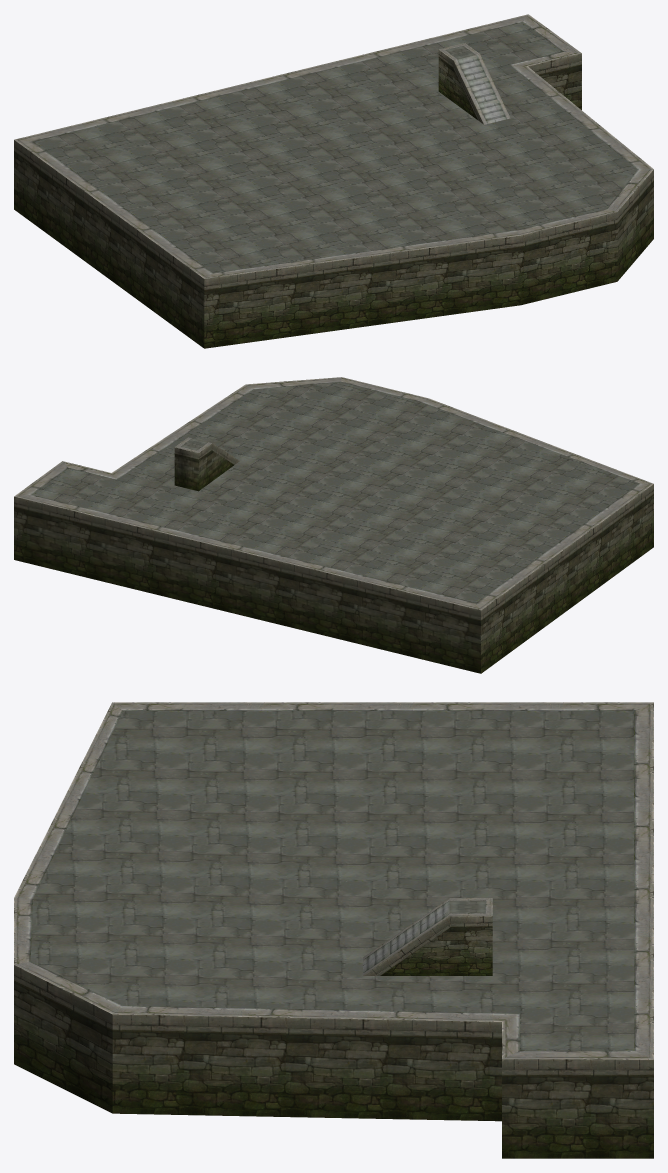
The model's file is environment_building_pingtai_004_b.FBX.
3 views of the same model, one above another, from view 1: azimuth 30°, elevation 25°; view 2: azimuth 150°, elevation 25°; view 3: azimuth 270°, elevation 25° (orthographic). The views are drawn at different scales.
Parts seen in each view (by area): view 1: environment_building_pingtai_004_b3, environment_building_pingtai_004_b1, environment_building_pingtai_004_b2, environment_building_pingtai_004_b05, environment_building_pingtai_004_b06; view 2: environment_building_pingtai_004_b3, environment_building_pingtai_004_b1, environment_building_pingtai_004_b2, environment_building_pingtai_004_b06; view 3: environment_building_pingtai_004_b3, environment_building_pingtai_004_b1, environment_building_pingtai_004_b2, environment_building_pingtai_004_b06, environment_building_pingtai_004_b05.
Boxes of the visible parts, x1=… form: environment_building_pingtai_004_b3: x1=34, y1=22, x2=637, y2=272; environment_building_pingtai_004_b1: x1=14, y1=53, x2=653, y2=348; environment_building_pingtai_004_b2: x1=14, y1=14, x2=653, y2=278; environment_building_pingtai_004_b05: x1=439, y1=43, x2=510, y2=124; environment_building_pingtai_004_b06: x1=438, y1=50, x2=483, y2=124; environment_building_pingtai_004_b3: x1=32, y1=382, x2=638, y2=602; environment_building_pingtai_004_b1: x1=14, y1=484, x2=653, y2=673; environment_building_pingtai_004_b2: x1=14, y1=377, x2=653, y2=610; environment_building_pingtai_004_b06: x1=174, y1=443, x2=239, y2=491; environment_building_pingtai_004_b3: x1=30, y1=711, x2=634, y2=1050; environment_building_pingtai_004_b1: x1=14, y1=965, x2=653, y2=1158; environment_building_pingtai_004_b2: x1=14, y1=702, x2=653, y2=1059; environment_building_pingtai_004_b06: x1=363, y1=900, x2=492, y2=975; environment_building_pingtai_004_b05: x1=363, y1=898, x2=492, y2=975.
Bounding box in the file's own units: 286 × 59.47 × 217.
